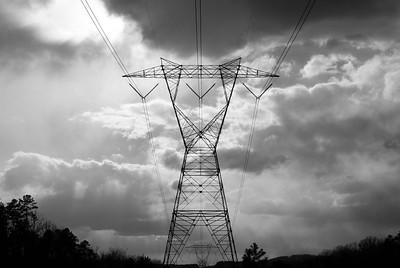power_tower: (117, 54, 280, 265)
